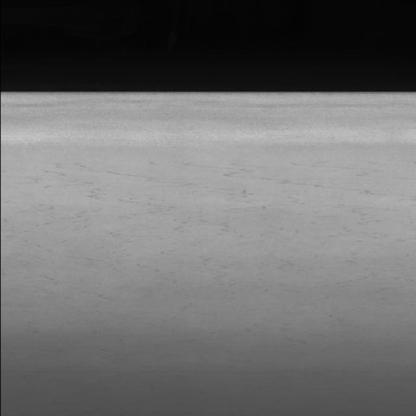silk_spot: (51, 157, 390, 275)
